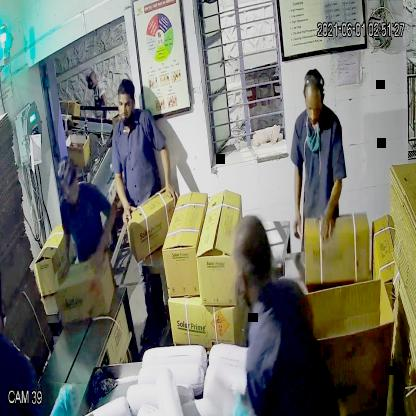no_goggles: (299, 95, 331, 118)
